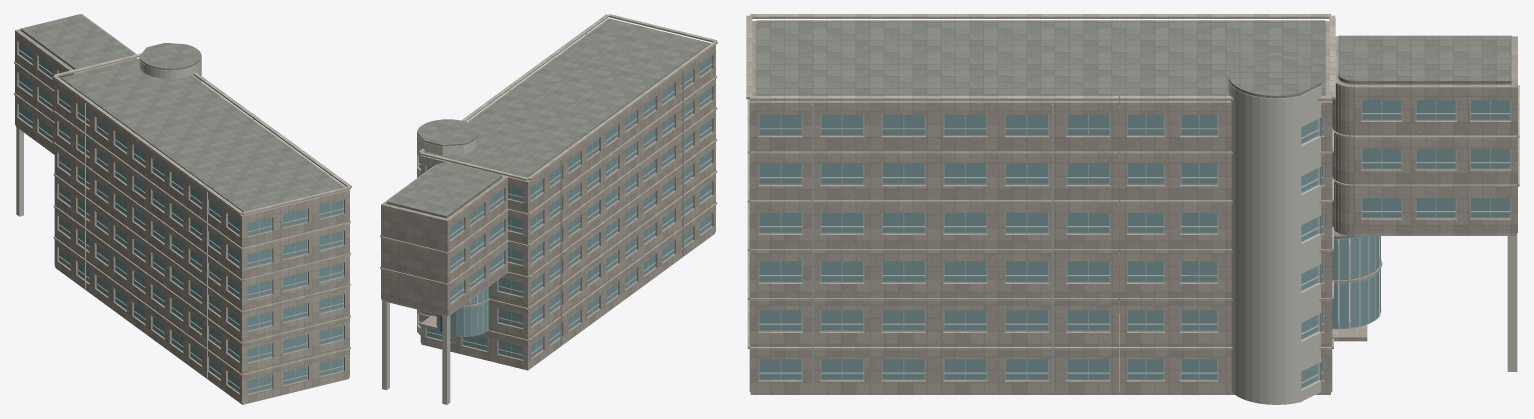
The picture shows the model from 3 angles, left to right: view 1: azimuth 30°, elevation 25°; view 2: azimuth 150°, elevation 25°; view 3: azimuth 270°, elevation 25°; orthographic projection. The views are drawn at different scales.
Parts seen in each view (by area): view 1: engineeringB__stone, engineeringB__roof, engineeringB__glass, engineeringB__trim, engineeringB__frame, engineeringB__core; view 2: engineeringB__stone, engineeringB__roof, engineeringB__glass, engineeringB__trim, engineeringB__frame, engineeringB__core; view 3: engineeringB__stone, engineeringB__glass, engineeringB__roof, engineeringB__core, engineeringB__frame, engineeringB__trim.
Boxes of the visible parts, x1,y1,x2,y2 form: engineeringB__stone: (15,14,349,404); engineeringB__roof: (20,14,343,211); engineeringB__glass: (19,42,343,393); engineeringB__trim: (14,53,351,375); engineeringB__frame: (18,42,343,394); engineeringB__core: (16,57,201,216); engineeringB__stone: (381,18,715,370); engineeringB__roof: (386,18,710,217); engineeringB__glass: (395,56,711,358); engineeringB__trim: (380,14,717,341); engineeringB__frame: (418,33,712,359); engineeringB__core: (382,134,478,404); engineeringB__stone: (749,21,1517,394); engineeringB__glass: (759,99,1509,387); engineeringB__roof: (756,20,1511,238); engineeringB__core: (1228,78,1517,404); engineeringB__frame: (758,100,1511,392); engineeringB__trim: (746,14,1519,349).
Size of the model in its own units: 15.17 by 23 by 51.62.
6 materials, 3 textured.
